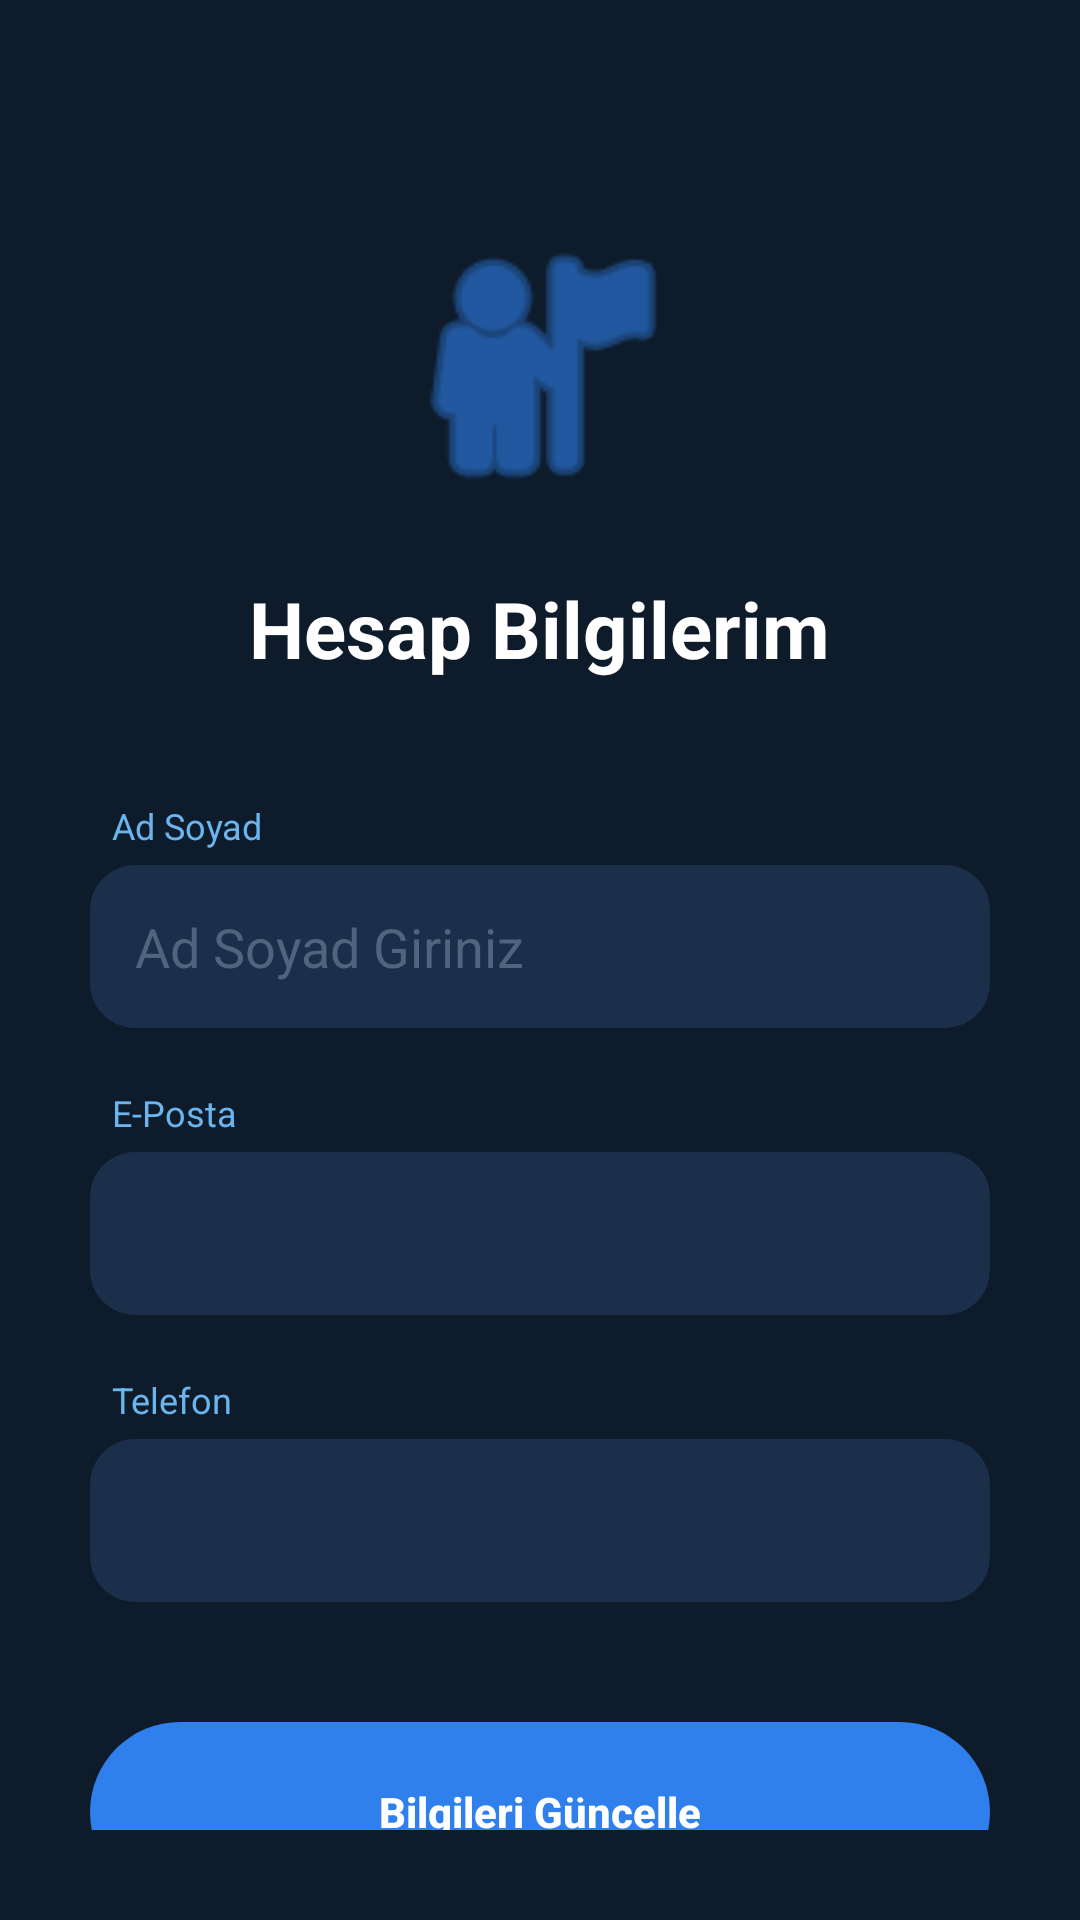

Named icons in this screenshot (1080 x 1920) and their centers, (x=x, y=y):
myplaces: (x=543, y=366)
